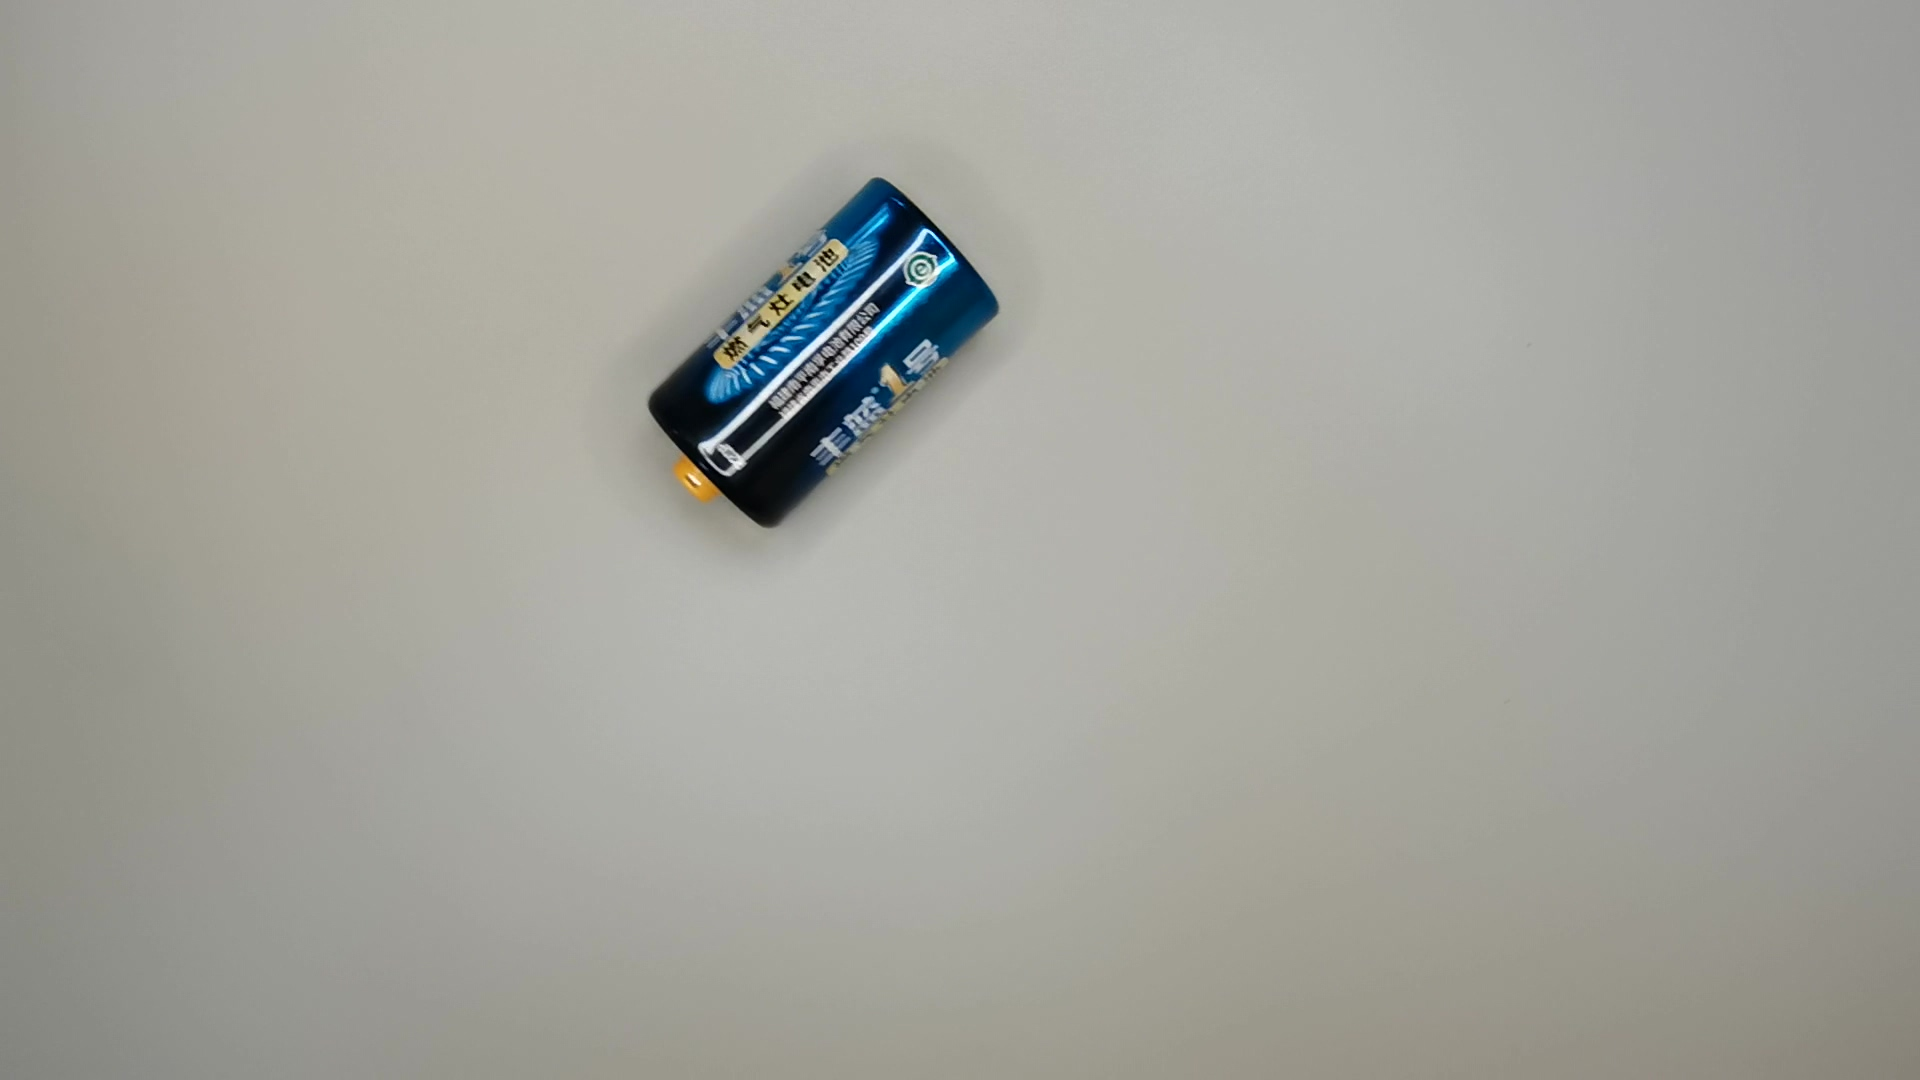battery: (638, 174, 1006, 542)
